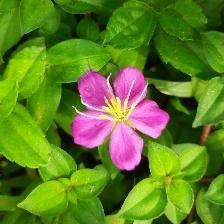malabar melastome: (69, 66, 173, 173)
